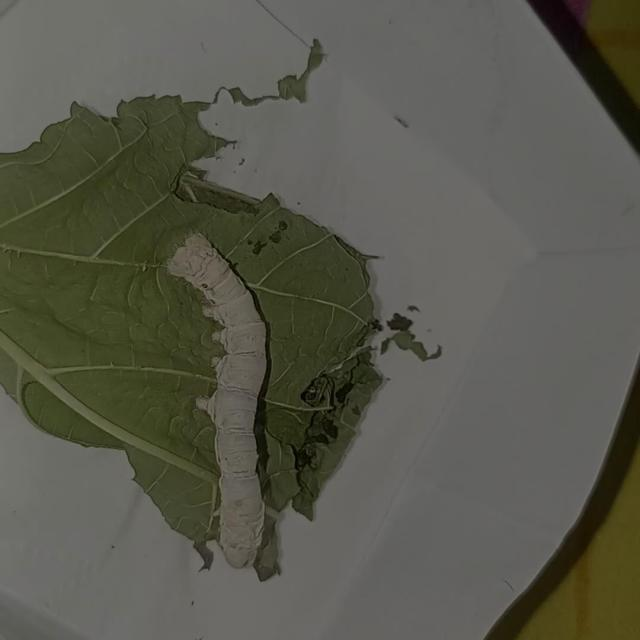Healthy: (144, 191, 325, 585)
